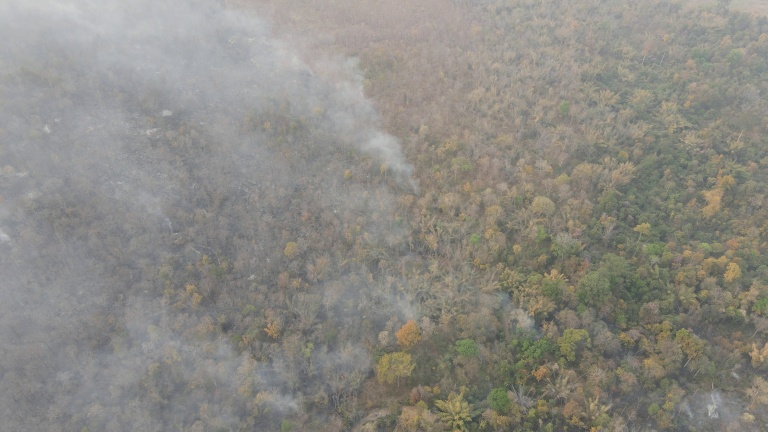smoke: (1, 1, 437, 429), (491, 286, 537, 338), (688, 381, 743, 422)
